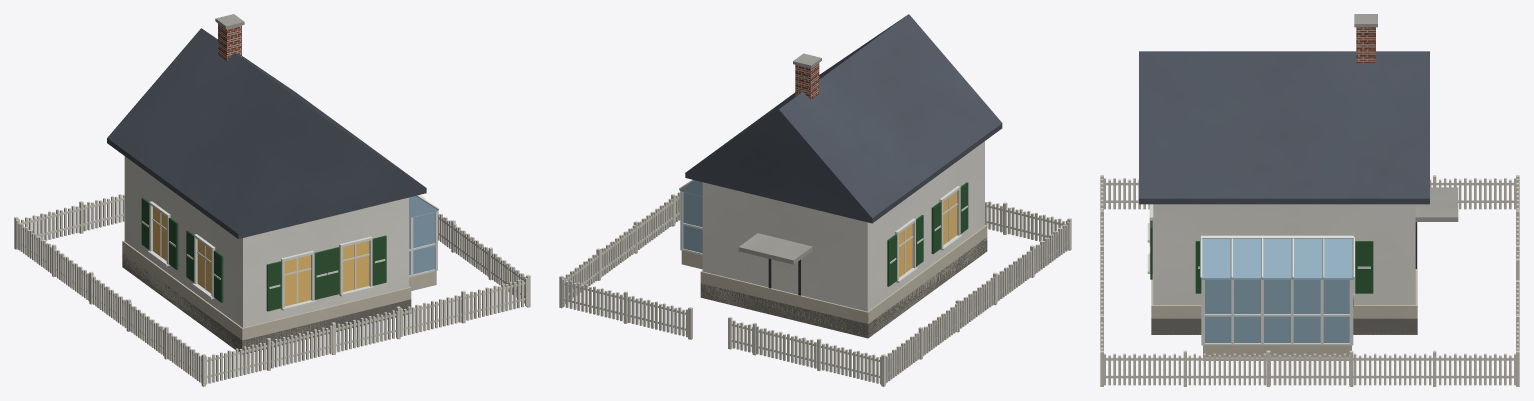
Rendered from dum_18_stare_3.glb.
3 views of the same model, side by side, from view 1: azimuth 30°, elevation 25°; view 2: azimuth 150°, elevation 25°; view 3: azimuth 270°, elevation 25° (orthographic). The views are drawn at different scales.
Parts seen in each view (by area): view 1: dum, noc; view 2: dum, noc; view 3: dum.
Boxes of the visible parts, box(x1,y1,x2,y2) form: dum: box(14, 14, 530, 386); noc: box(153, 207, 369, 306); dum: box(559, 14, 1071, 386); noc: box(899, 192, 956, 277); dum: box(1100, 14, 1519, 386).
Size of the model in its own units: 11.79 by 8.38 by 11.79.
1 material, 1 textured.
